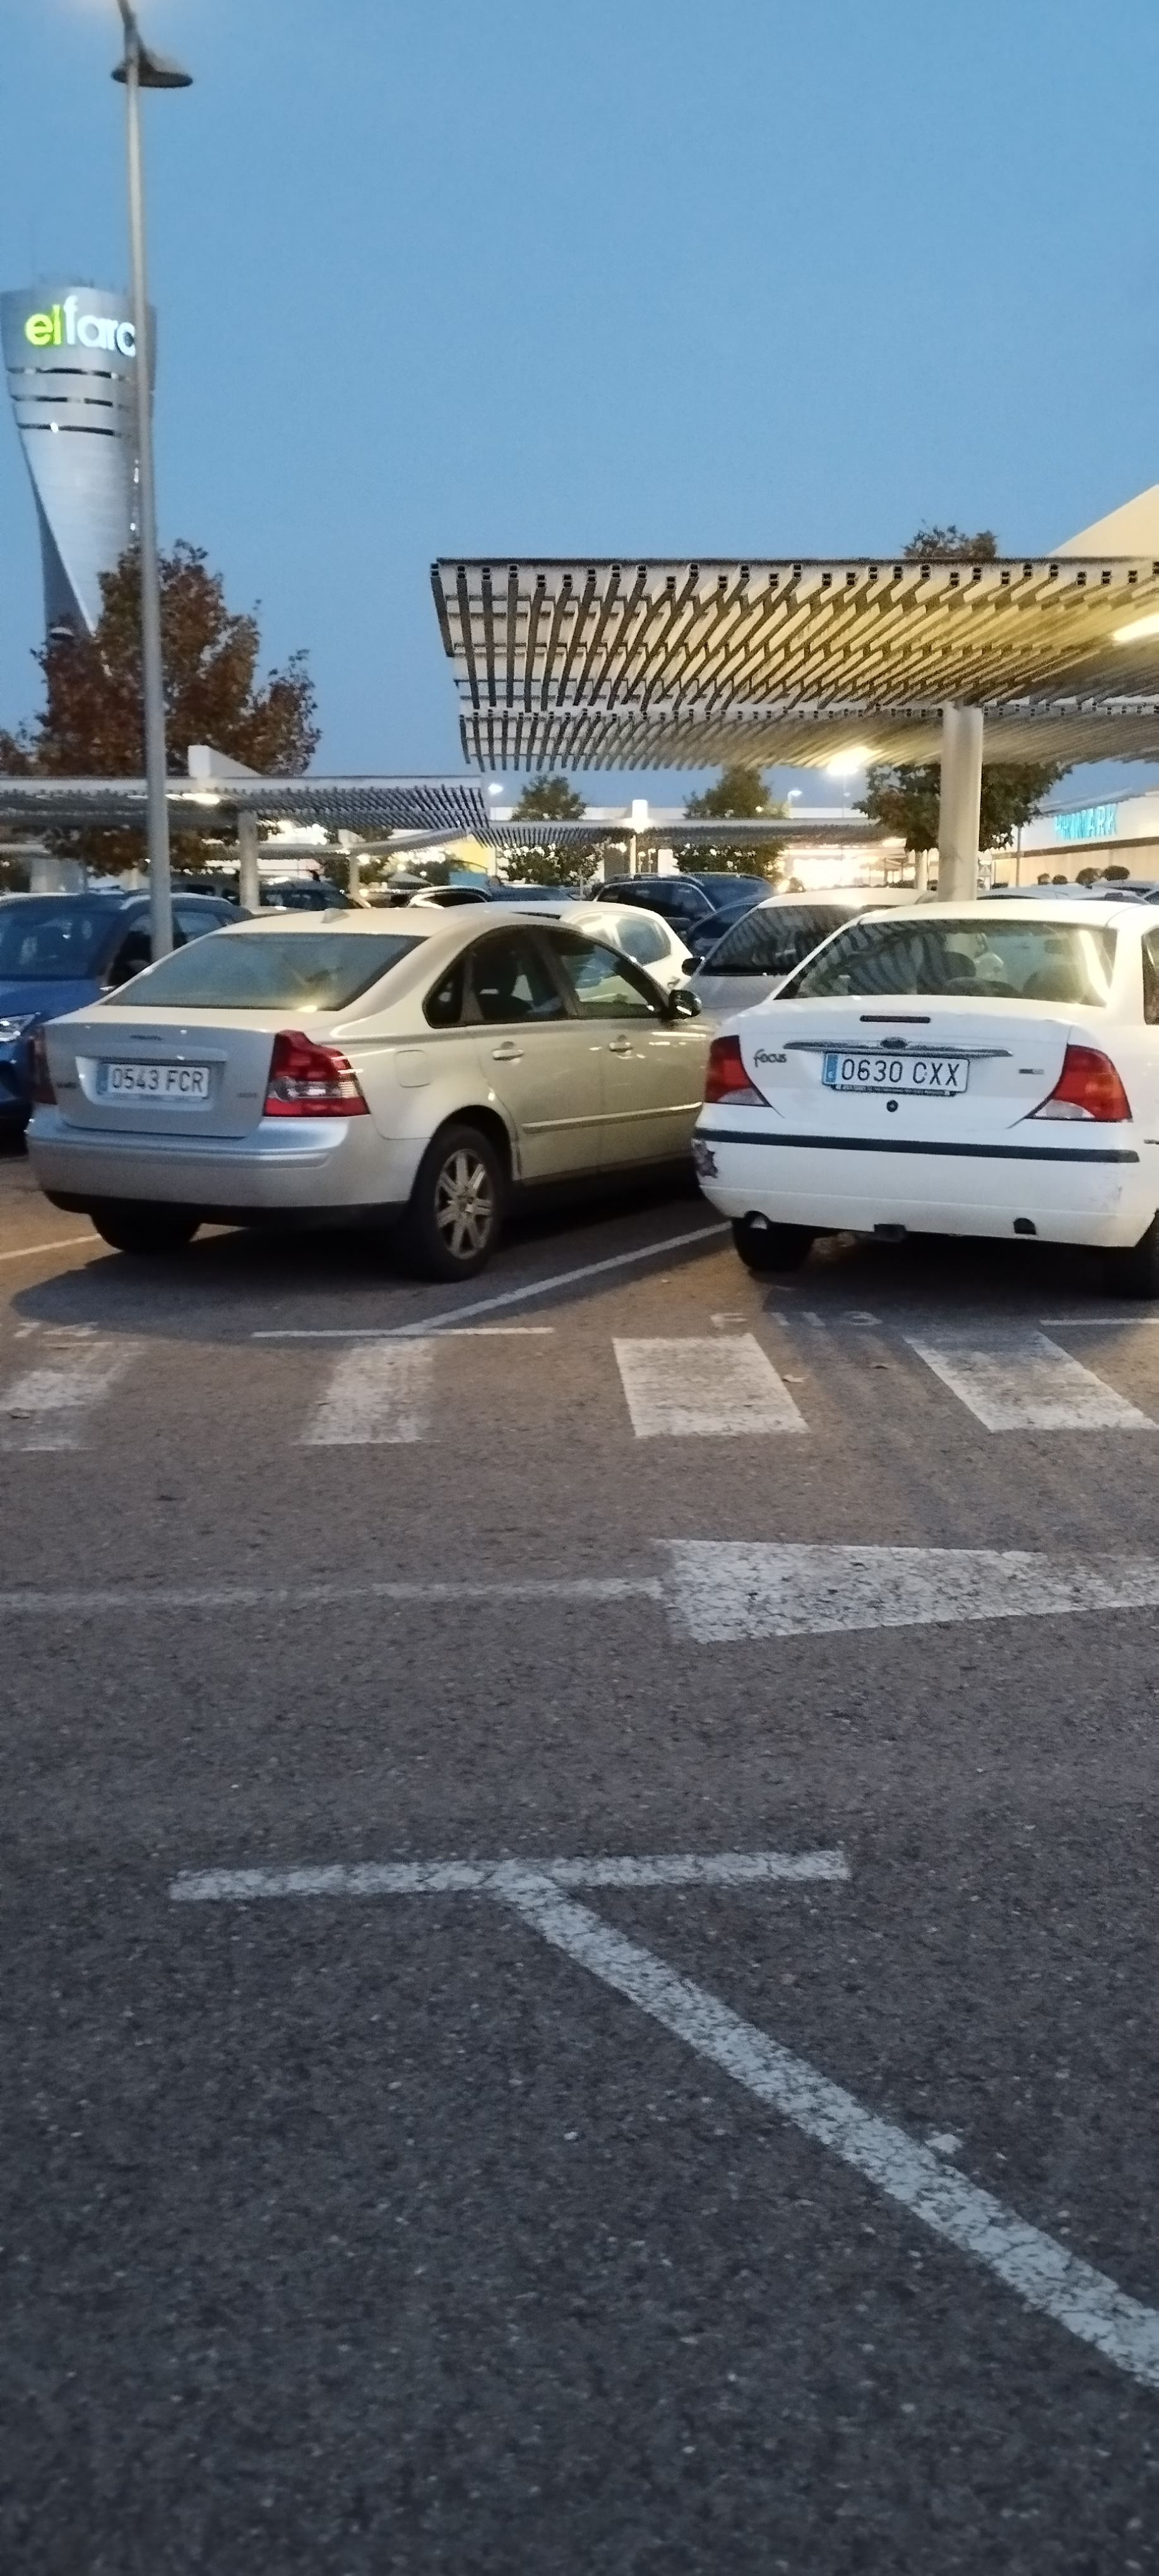Car: (25, 909, 716, 1283), (690, 905, 1158, 1287)
Plate: (824, 1051, 969, 1097), (98, 1063, 211, 1100)
